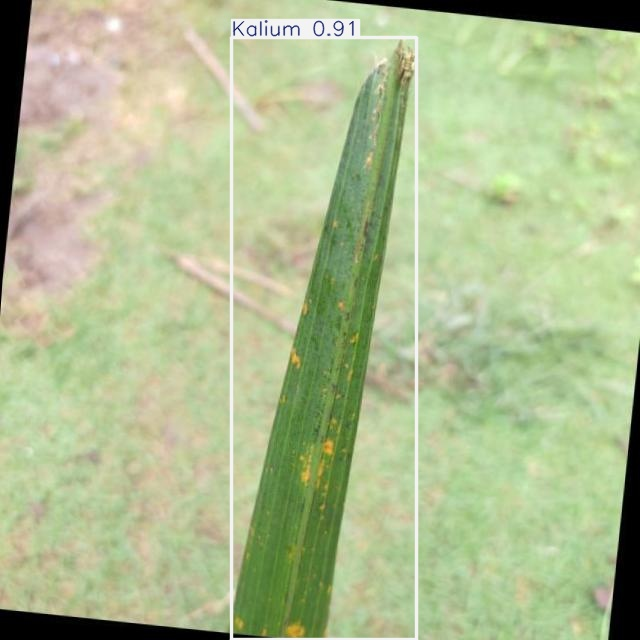Kalium: (231, 38, 416, 639)
